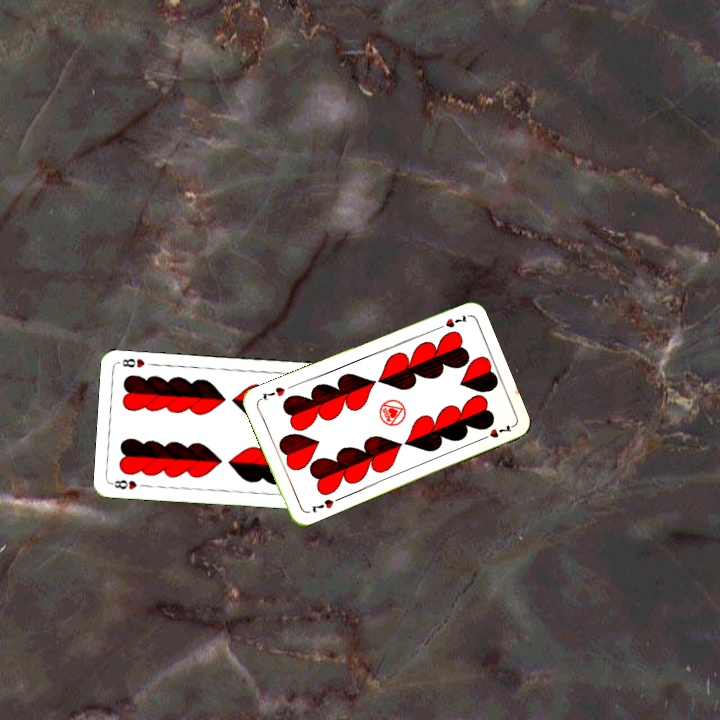H7: (431, 311, 470, 332), (307, 495, 336, 515)
H8: (108, 476, 139, 492)
